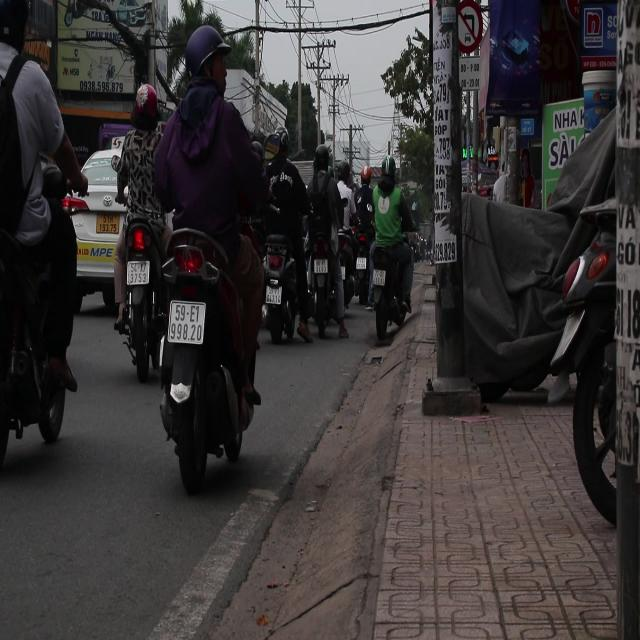car: (70, 149, 128, 314)
motorbike: (142, 198, 262, 481), (0, 181, 74, 447), (302, 227, 348, 351), (371, 228, 413, 349), (259, 232, 301, 344), (340, 226, 375, 306)
